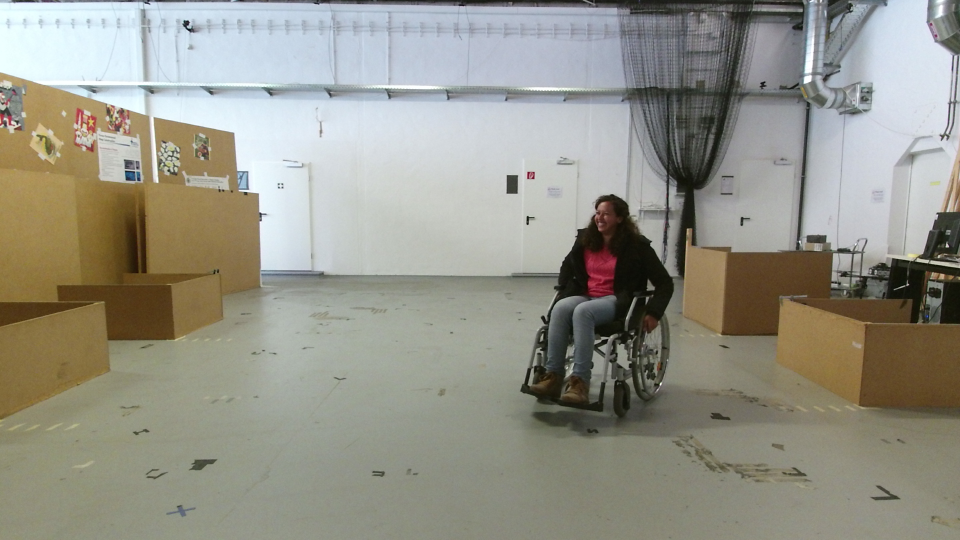wheelchair: (519, 191, 678, 421)
